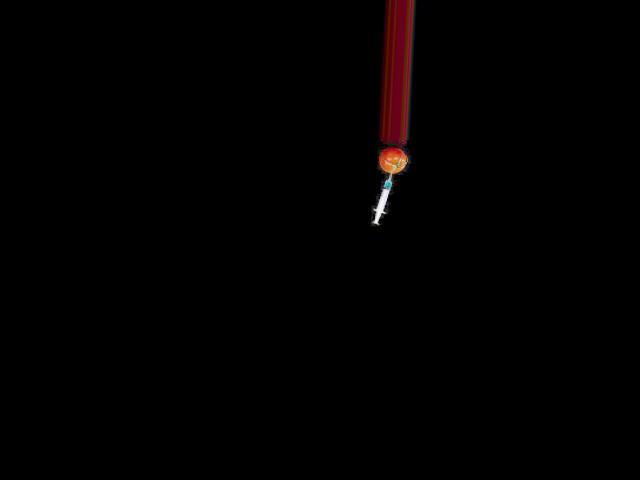tomato: (378, 147, 407, 173)
